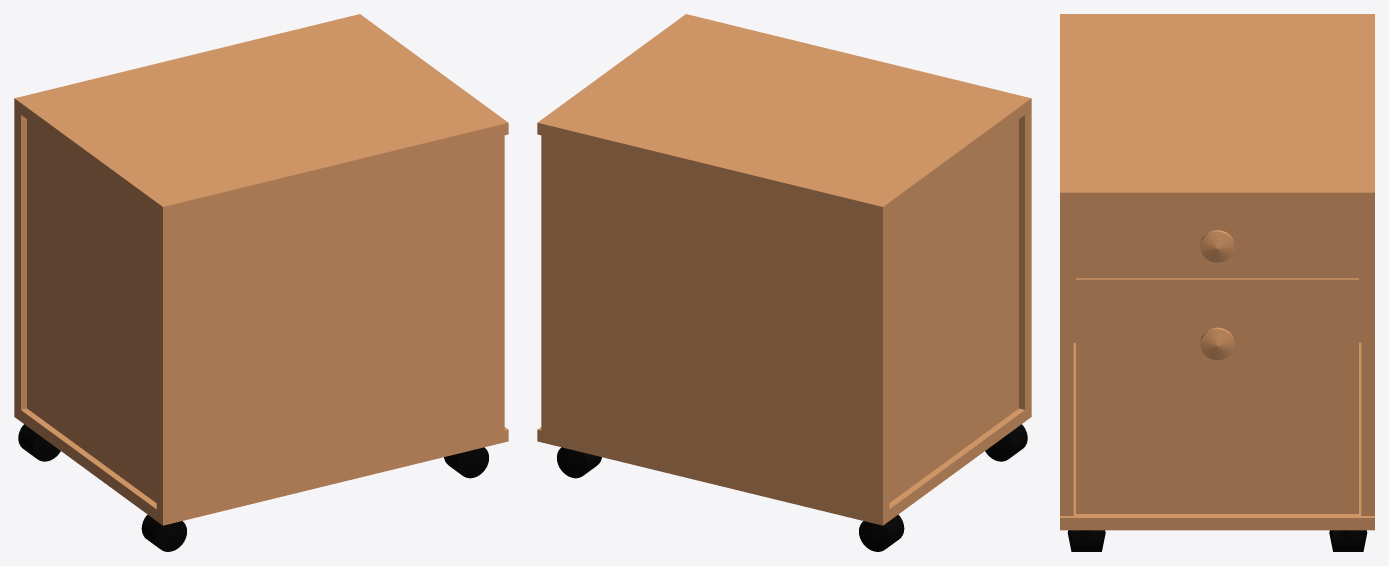
3 renders of one model, left to right at view 1: azimuth 30°, elevation 25°; view 2: azimuth 150°, elevation 25°; view 3: azimuth 270°, elevation 25°, orthographic. The views are drawn at different scales.
Parts seen in each view (by area): view 1: Cube; view 2: Cube; view 3: Cube.
Part boxes in pixels (<box>): Cube: <box>14,14,508,551</box>; Cube: <box>537,14,1031,551</box>; Cube: <box>1060,14,1374,551</box>.
Size of the model in its own units: 0.5735 by 0.414 by 0.541.
